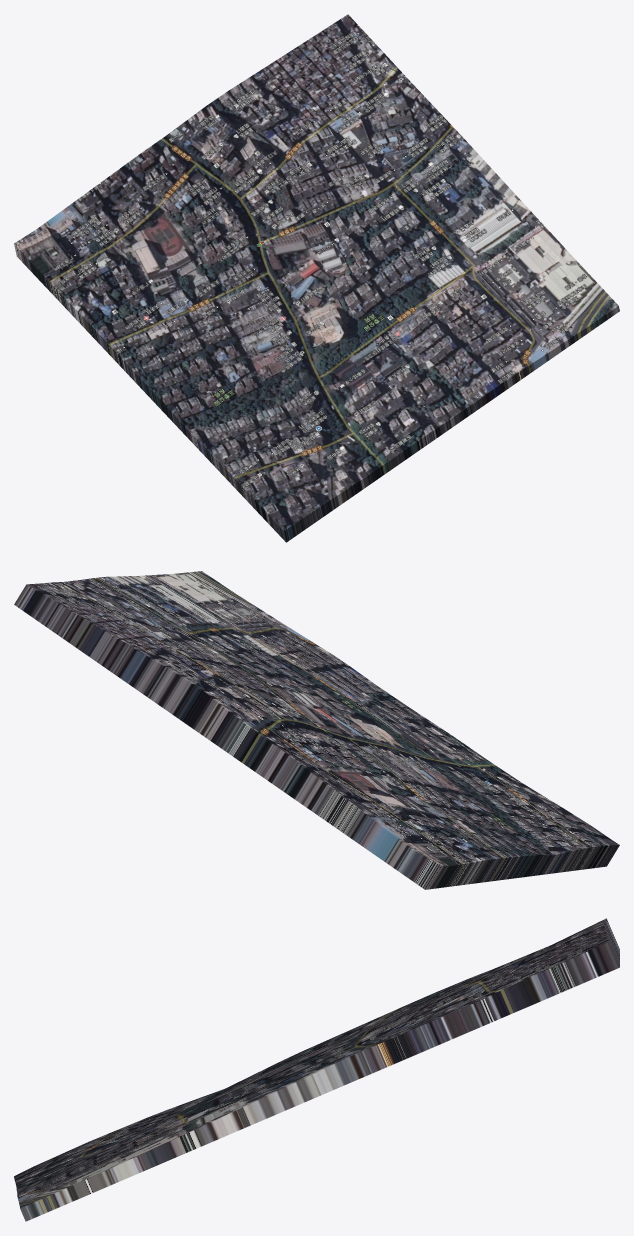
3 views of the same model, one above another, from view 1: azimuth 30°, elevation 25°; view 2: azimuth 150°, elevation 25°; view 3: azimuth 270°, elevation 25° (orthographic). The views are drawn at different scales.
Parts seen in each view (by area): view 1: 0_2_11; view 2: 0_2_11; view 3: 0_2_11.
Boxes of the visible parts, x1=… form: 0_2_11: x1=14, y1=14, x2=619, y2=542; 0_2_11: x1=14, y1=571, x2=619, y2=889; 0_2_11: x1=14, y1=918, x2=619, y2=1221.
Size of the model in its own units: 603 by 450 by 552.
Materials: 1 (1 with a texture image).
